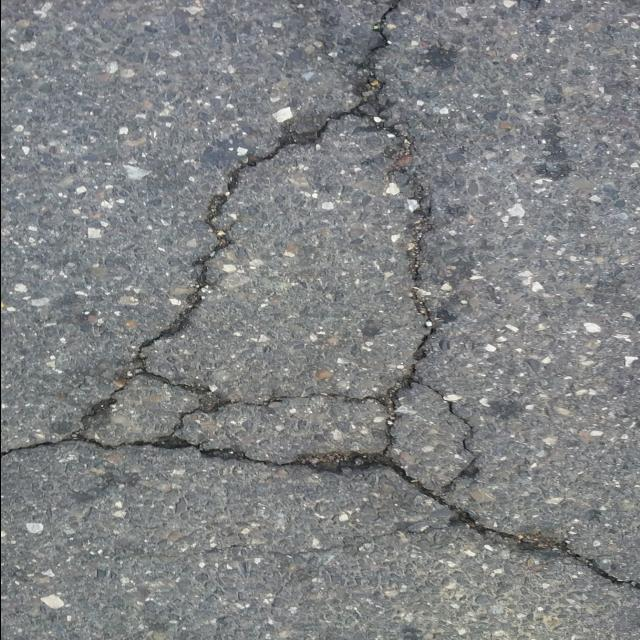Crack: (0, 0, 640, 592), (147, 115, 429, 401), (189, 524, 439, 624)
